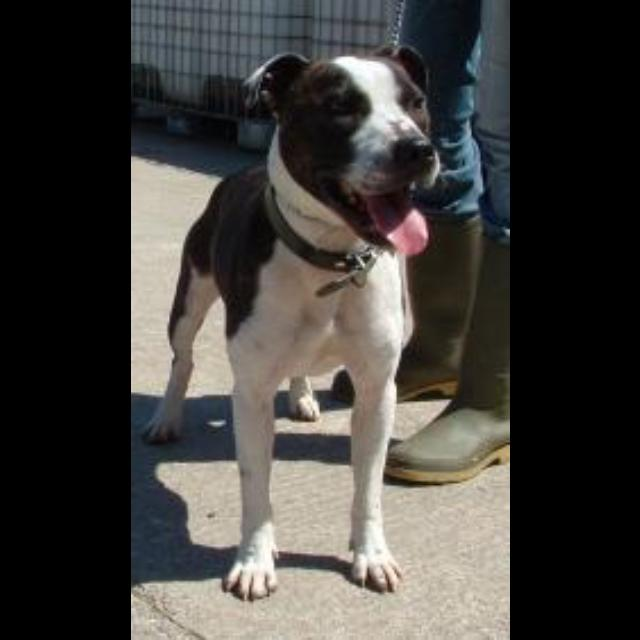staffford: (141, 42, 440, 602)
